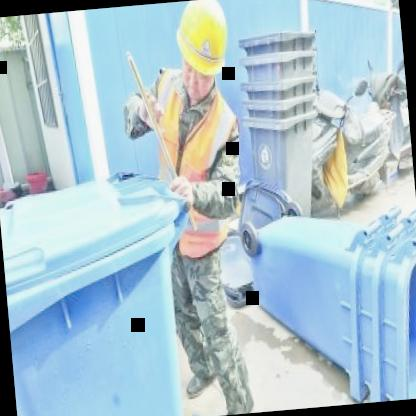helmet: (171, 0, 242, 108)
